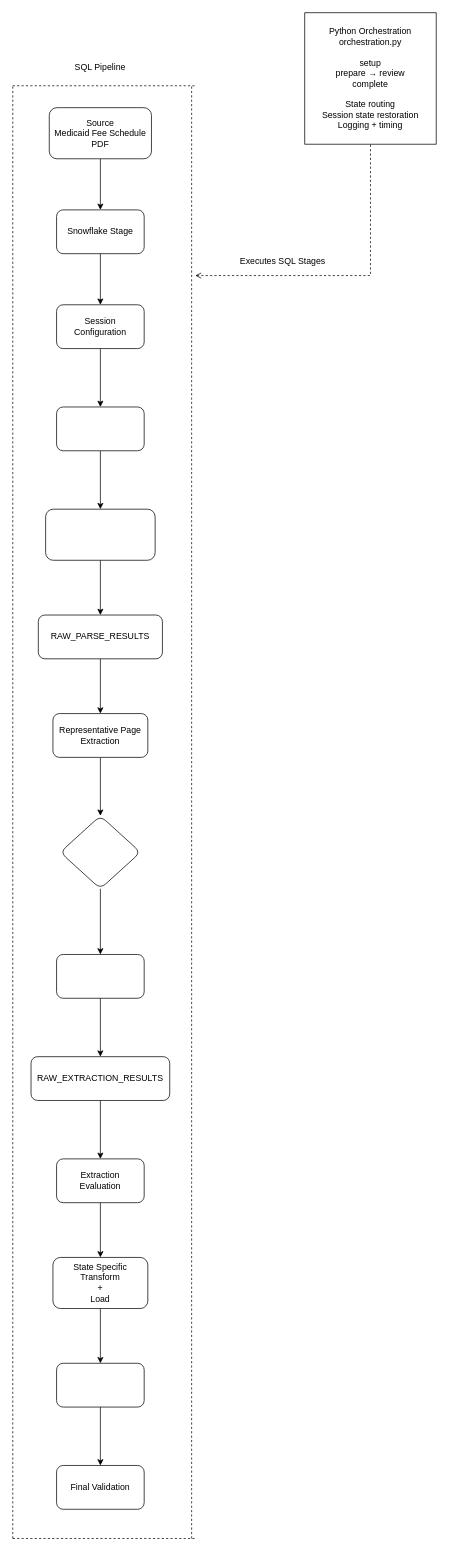
The diagram is 449 pixels wide and 1552 high, and some of its shapes have lost their labels. Each missing label, with the centre of its shape:
"AI_PARSE_DOCUMENT" goes at pixel 100 534.
"Document Registration" goes at pixel 100 428.
"Human Review" goes at pixel 100 852.
"Standardized Fee Schedule" goes at pixel 100 1385.
"State Specific AI_EXTRACT" goes at pixel 100 976.
